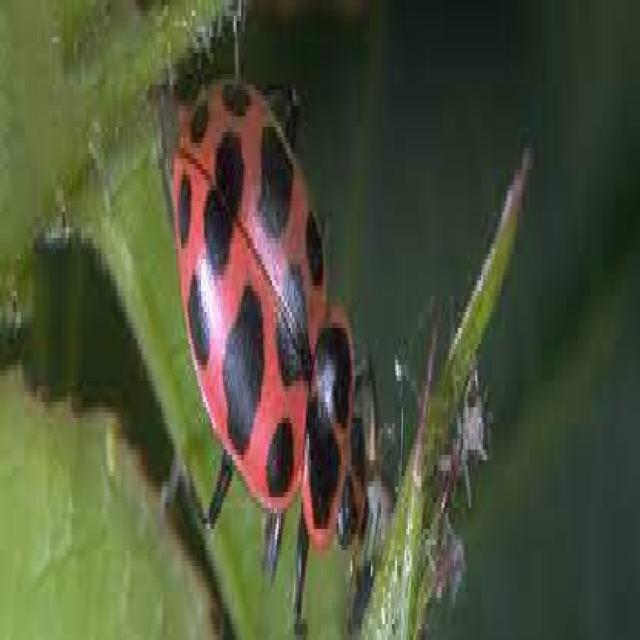bug: (153, 0, 384, 640)
